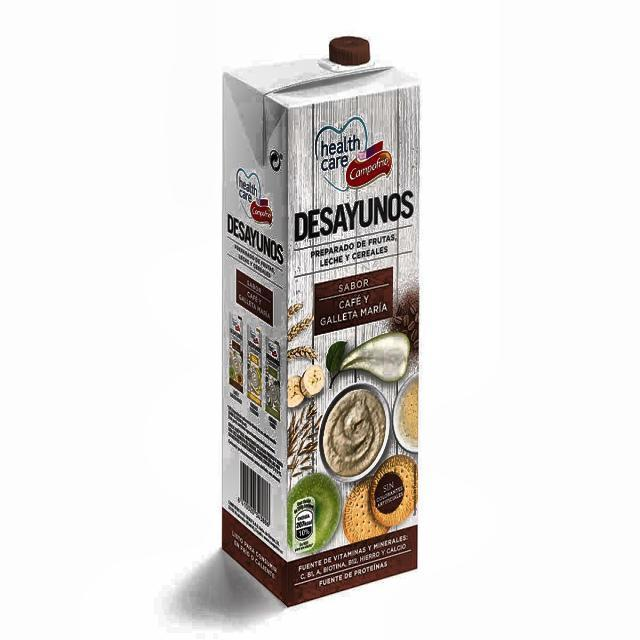cardboard: (220, 48, 421, 607)
